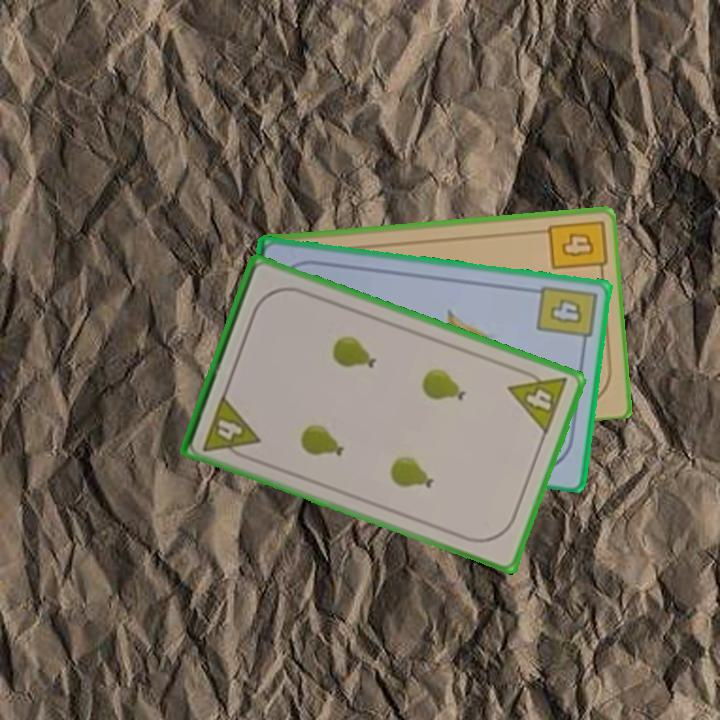4b: (533, 281, 599, 351), (543, 216, 608, 279)
4p: (505, 363, 571, 437), (199, 391, 263, 464)
